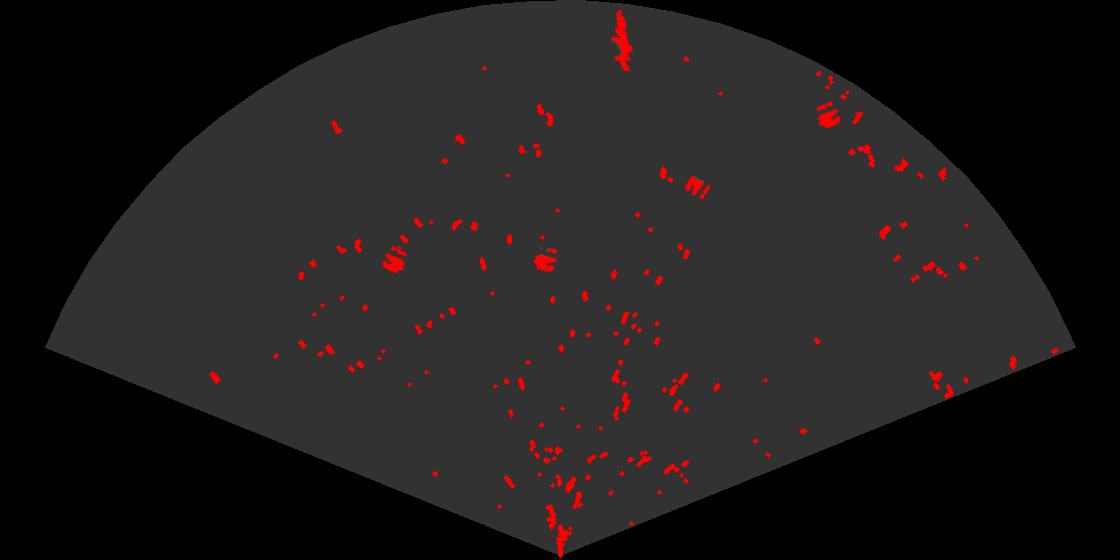ball: (380, 244, 409, 275), (815, 100, 843, 130), (532, 245, 559, 274), (683, 174, 712, 201)
frogman: (609, 8, 635, 71)
